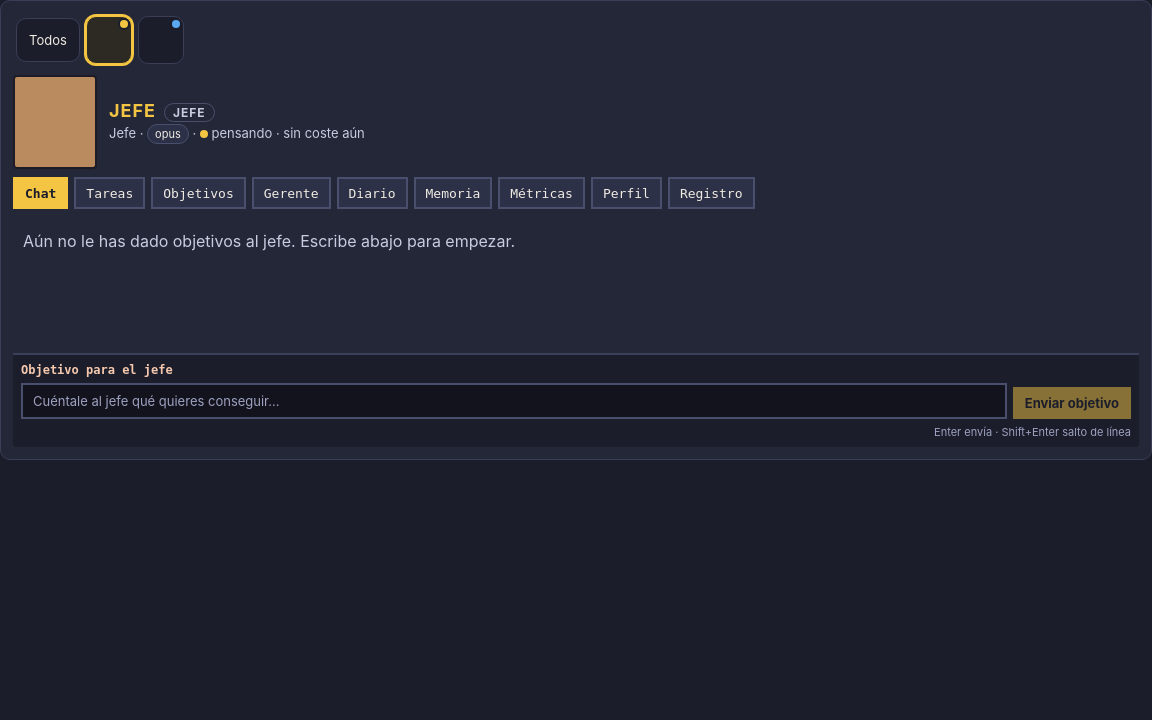
Test case: AgentTabs › la lista del jefe incluye las tareas de todos los robots, con botones de revisión
Click the tab "Tareas".
click(110, 193)  # box [74,177,145,209]
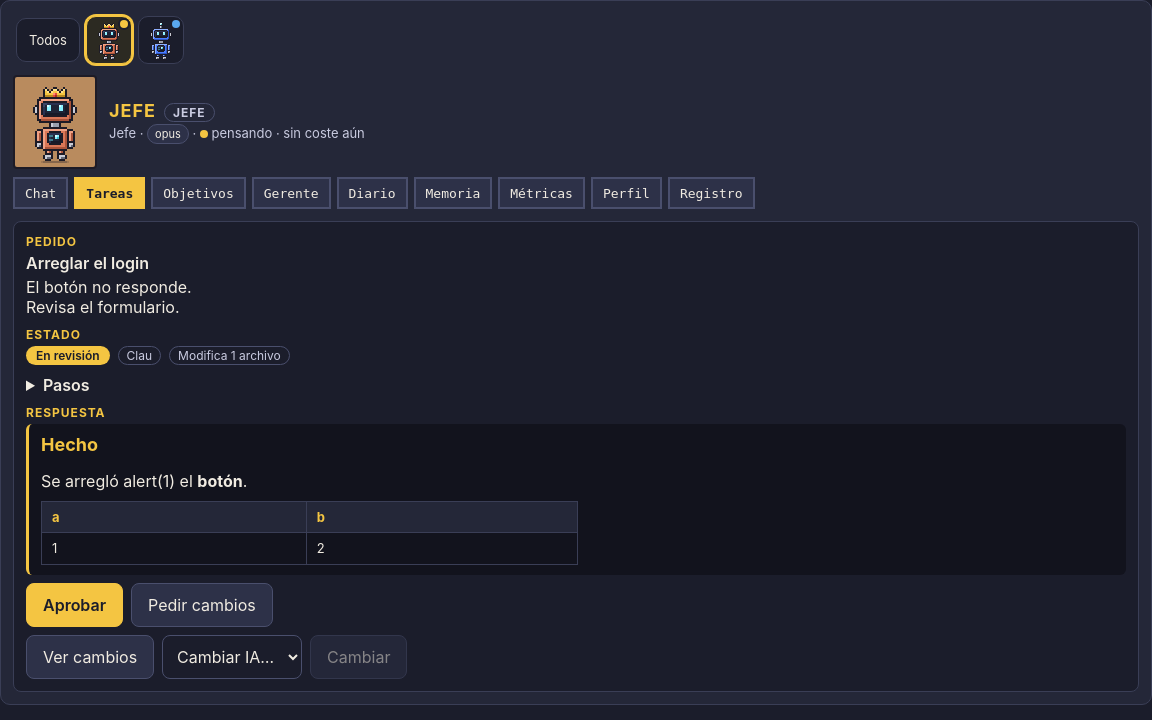
Check: the list item with aria-label "Tarea Arreglar el login" shows "Clau", box [127,348,152,363]
Check: the button with aria-label "Aprobar Arreglar el login" is shown, box [26,583,123,627]
